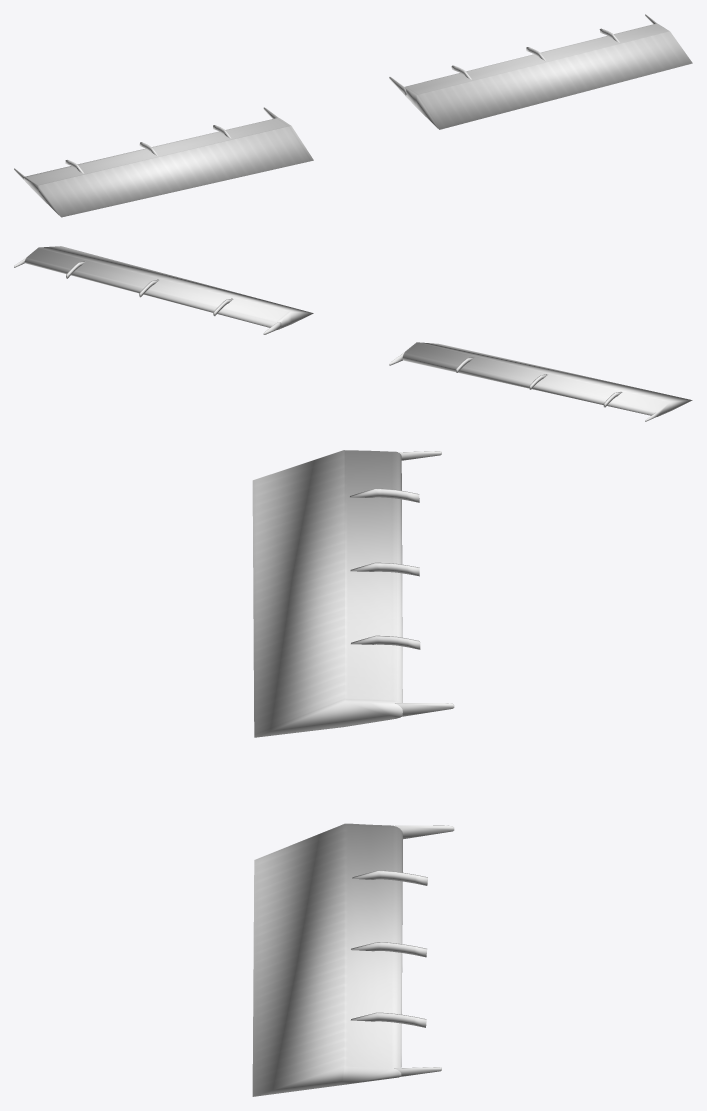
File: flaps.glb
3 views of the same model, one above another, from view 1: azimuth 30°, elevation 25°; view 2: azimuth 150°, elevation 25°; view 3: azimuth 270°, elevation 25° (orthographic). The views are drawn at different scales.
Parts seen in each view (by area): view 1: flaps; view 2: flaps; view 3: flaps.
Boxes of the visible parts, box(x1,y1,x2,y2) form: flaps: box(14, 14, 692, 217); flaps: box(14, 246, 692, 421); flaps: box(252, 450, 454, 1096).
Bounding box in the file's own units: 5.23 × 0.1859 × 0.7235.
Materials: 1 (1 with a texture image).
